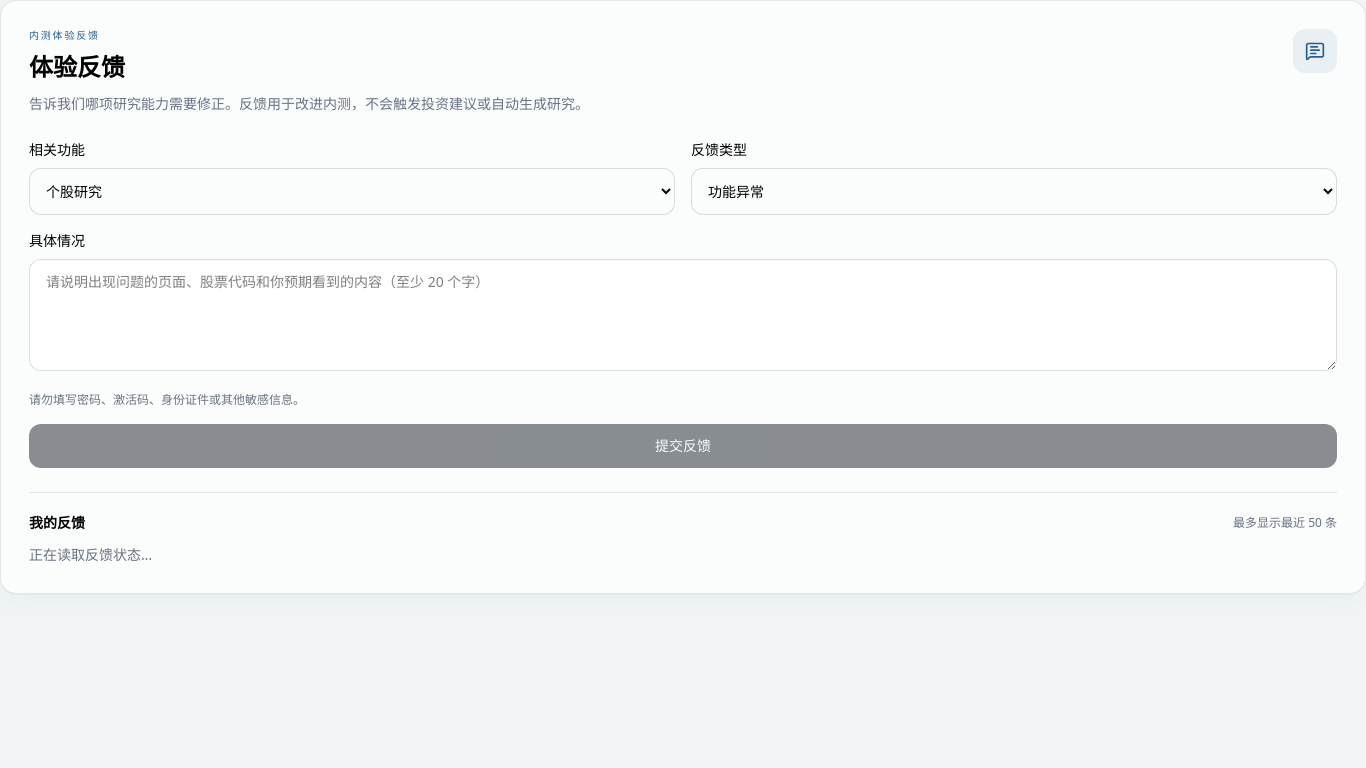
BetaFeedbackCard › submits bounded structured beta feedback
Select "数据缺失" in the dropdown labelled "反馈类型" at (1014, 192), box [691, 168, 1337, 215]
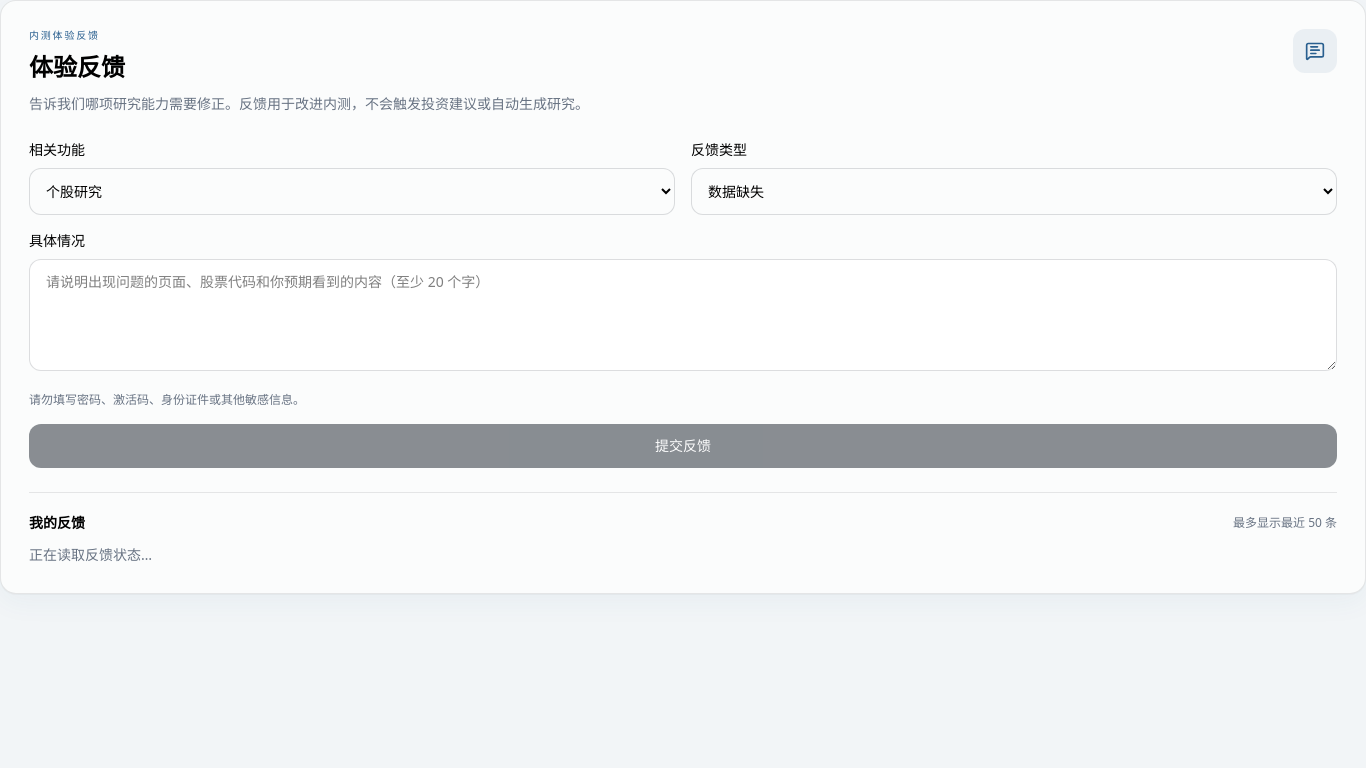
Type "600519 的同行研究页面缺少可追溯的行业归属说明。" into the text box labelled "具体情况" at (683, 315), box [29, 259, 1337, 371]
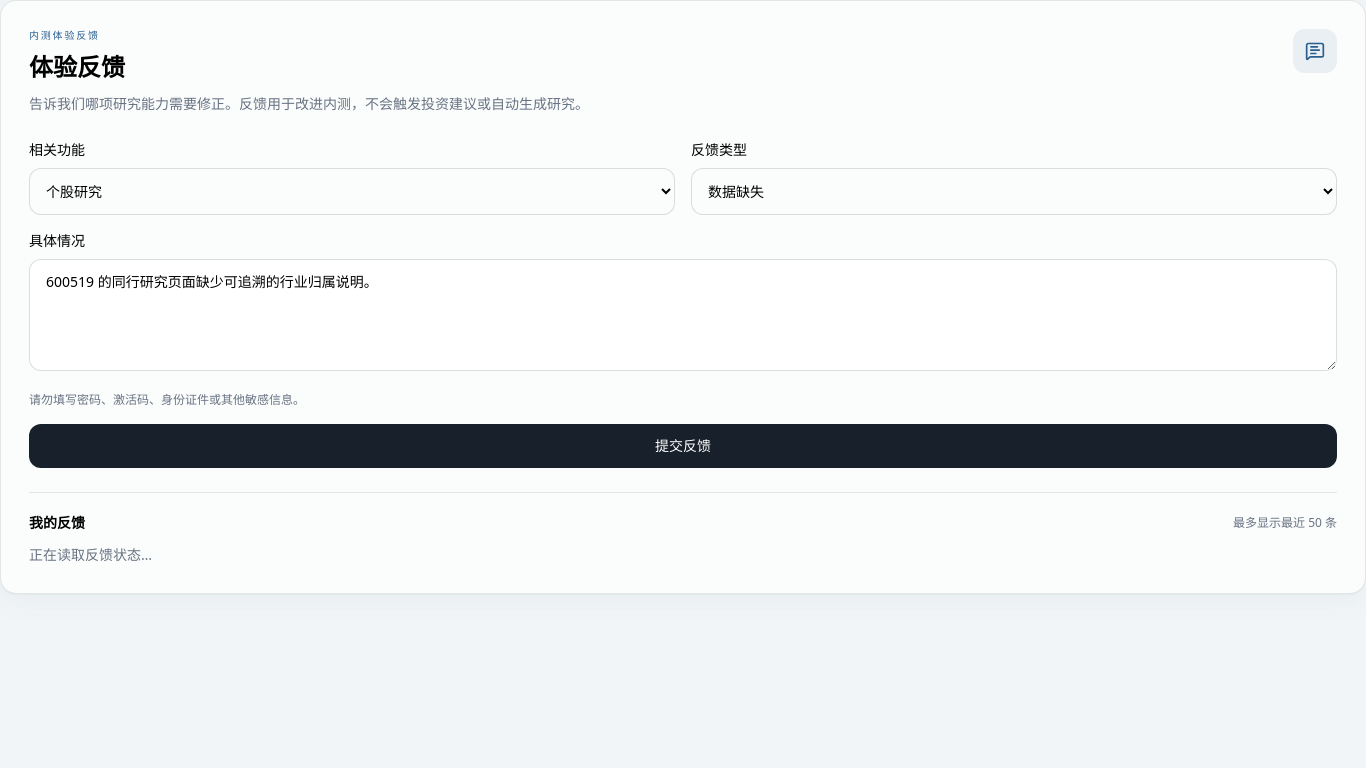
Click the button "提交反馈" at (683, 446), box [29, 424, 1337, 468]
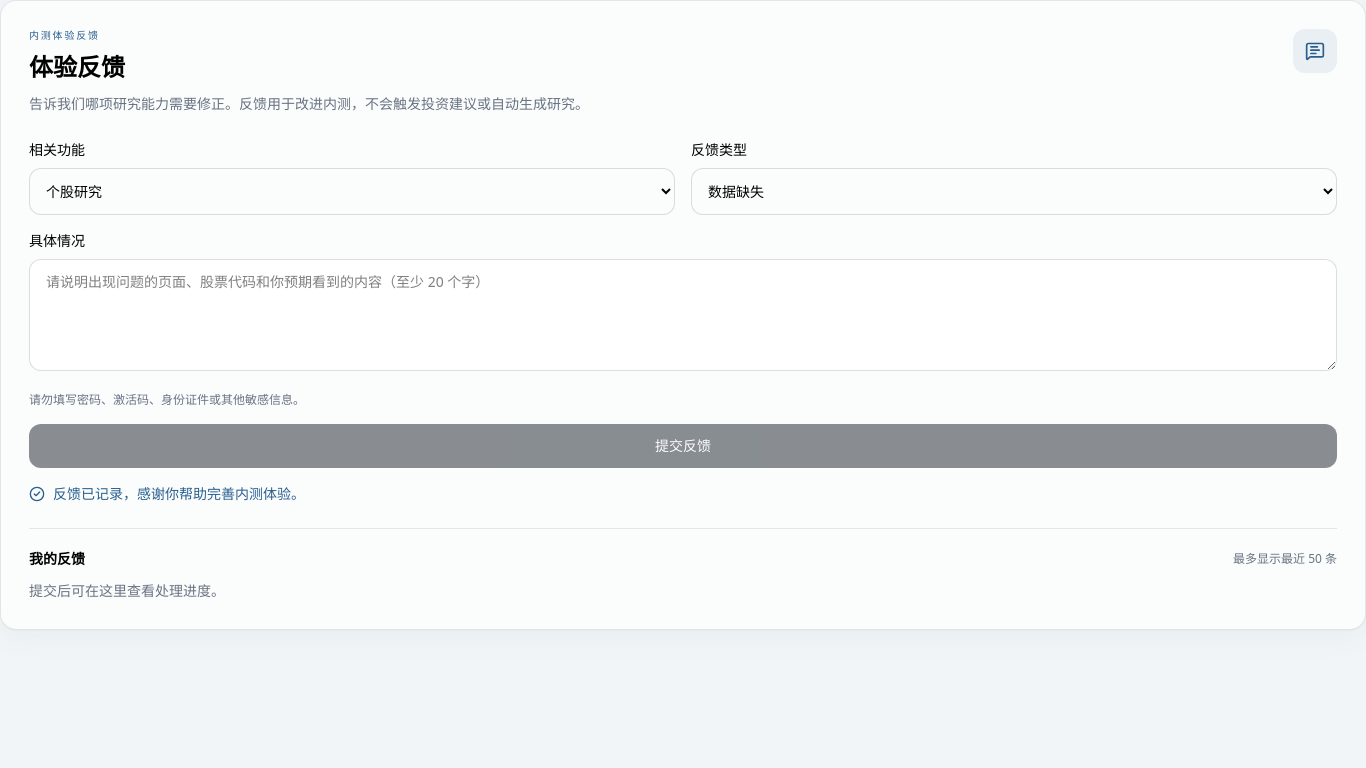
Expected: the text "反馈已记录，感谢你帮助完善内测体验。" is shown, [29, 484, 305, 503]
